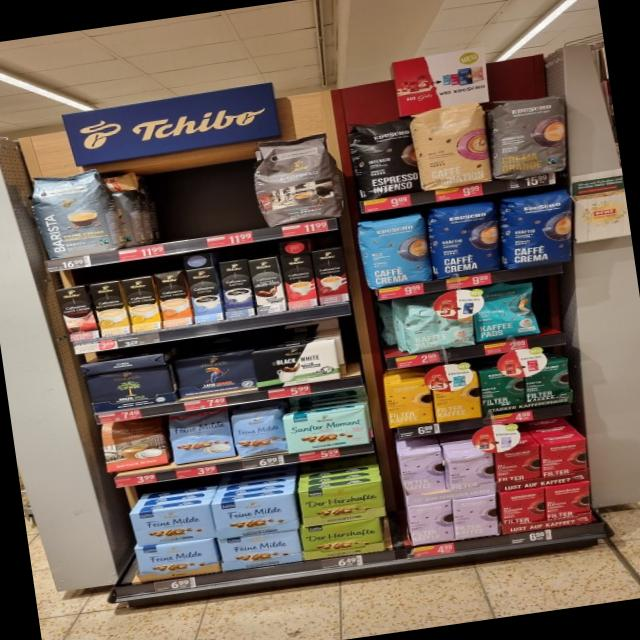BM Gemahlen: (82, 363, 178, 415)
BW Gemahlen: (251, 338, 340, 392)
Barista CC: (22, 162, 130, 263)
CC Vollmundig: (97, 415, 174, 478)
Empty Shelf: (112, 143, 260, 247)
Espresso Aromatisch: (248, 129, 348, 228)
FM 36 Pads: (164, 407, 240, 467)
FM Bohne: (230, 405, 290, 458)
FM Gemahlen: (133, 537, 221, 584), (125, 504, 217, 547), (215, 493, 299, 540), (217, 528, 304, 572)
Herzhatfe Mundig: (299, 480, 390, 529), (299, 517, 385, 561)
LG Gemahlen: (173, 347, 259, 399)
SM Gemahlen: (284, 404, 373, 455)
Simo CC Colombia: (54, 285, 99, 342)
Simo CCMild bigpack: (120, 276, 163, 333)
Simo CCVollmundig bigpack: (153, 269, 194, 329)
Simo Decaff: (88, 281, 131, 337)
Simo Es Brazil: (281, 252, 318, 310)
Simo Es Caramel: (312, 247, 351, 305)
Simo Es Elegant: (247, 255, 288, 316)
Simo Es Kraft: (218, 259, 256, 319)
Simo Es Vanilla: (186, 267, 224, 325)
